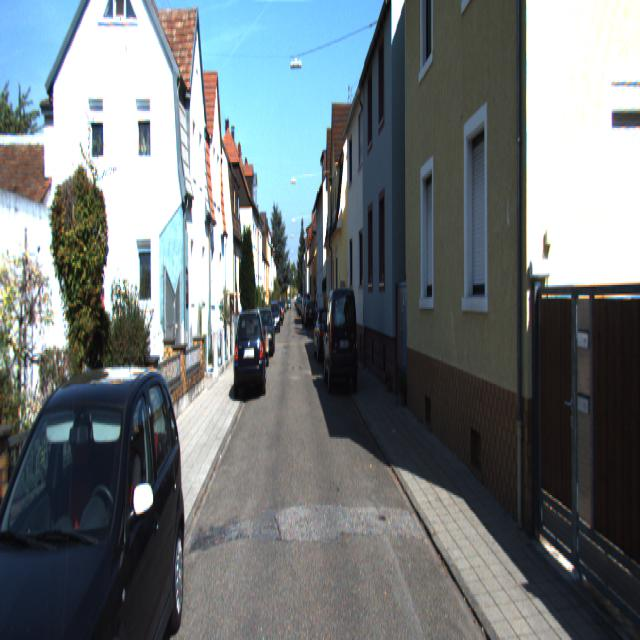Car: (0, 346, 192, 638), (322, 284, 358, 395), (234, 305, 265, 400), (256, 306, 274, 359), (638, 269, 639, 572)
